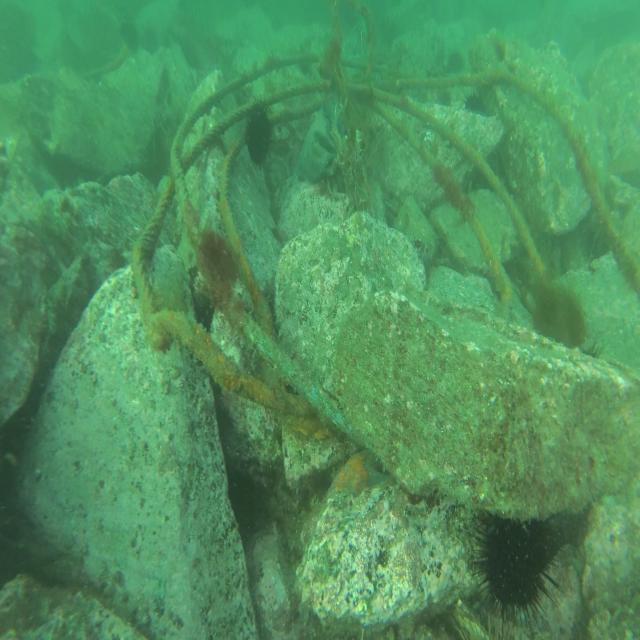echinus: (467, 497, 560, 628), (526, 272, 590, 356), (242, 93, 273, 165), (462, 88, 489, 121)
starfish: (329, 438, 387, 497)
